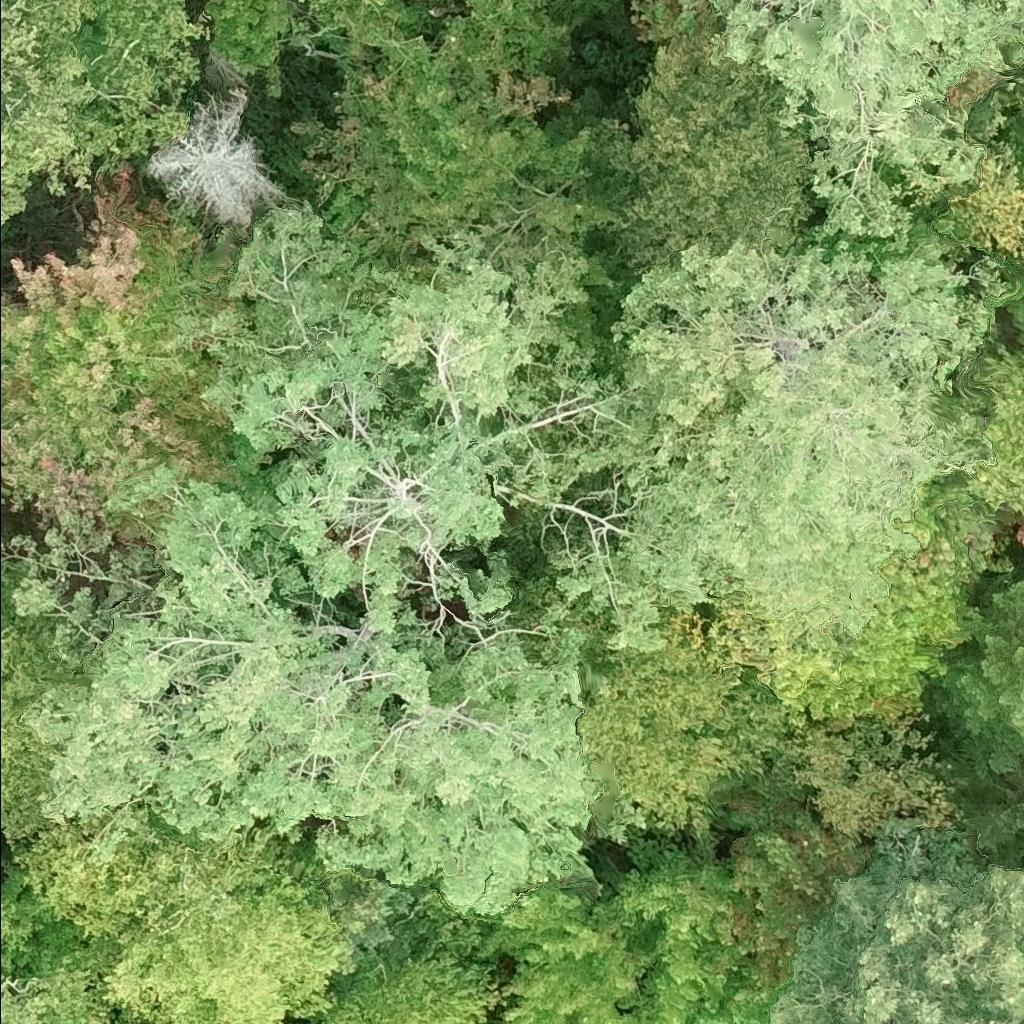crown: (6, 472, 644, 916), (178, 211, 707, 693), (611, 239, 1007, 631), (0, 168, 294, 572), (207, 0, 616, 285), (706, 0, 1023, 251), (11, 806, 353, 1023), (719, 478, 992, 721), (608, 788, 884, 1023), (615, 7, 811, 277), (579, 614, 807, 836), (774, 821, 1023, 1023), (0, 0, 203, 221), (437, 879, 667, 1023), (0, 548, 90, 841), (308, 921, 513, 1023), (148, 86, 275, 224), (944, 582, 1023, 780), (0, 902, 123, 1023), (970, 345, 1023, 520), (630, 0, 726, 46), (376, 0, 386, 4), (478, 1022, 481, 1023)
